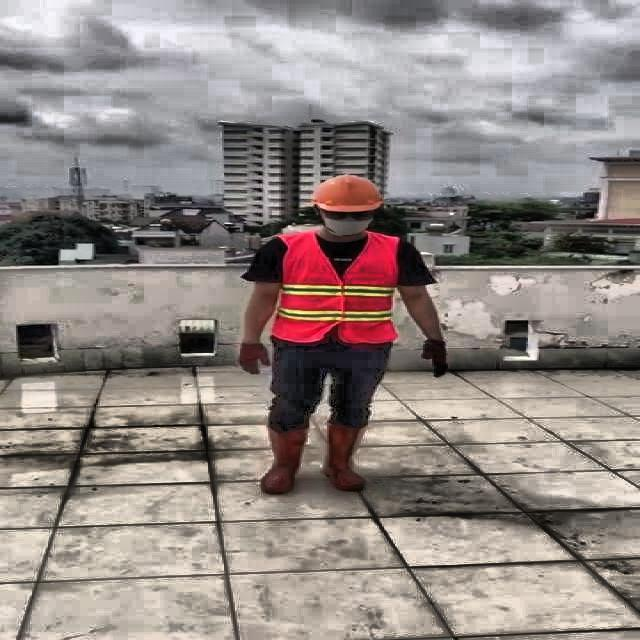safety_helmet: (308, 174, 387, 214)
safety_jacket: (272, 232, 395, 343)
